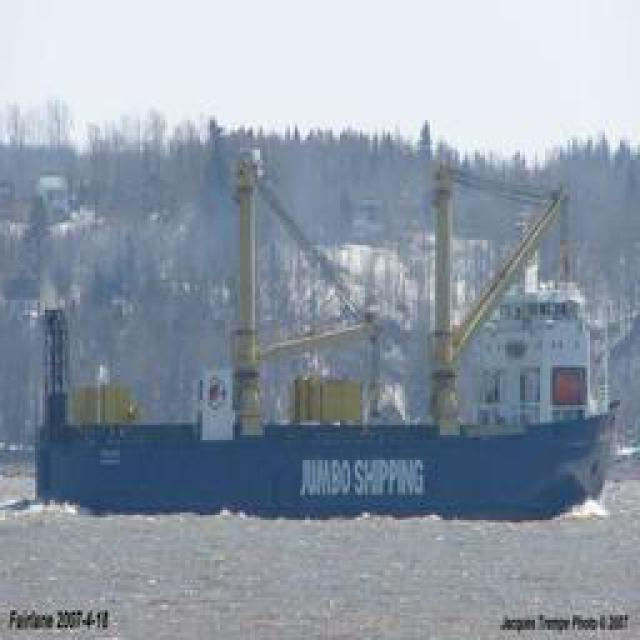Ship: (24, 162, 607, 522)
